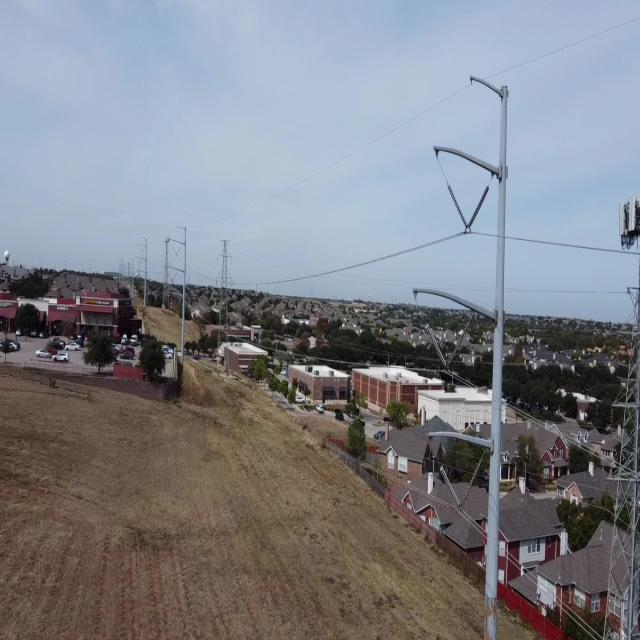杆塔: (212, 232, 242, 389)
正常绝缘子: (454, 176, 499, 251), (415, 304, 458, 381), (435, 163, 475, 243), (449, 451, 492, 524), (435, 316, 479, 384), (433, 448, 467, 518)
